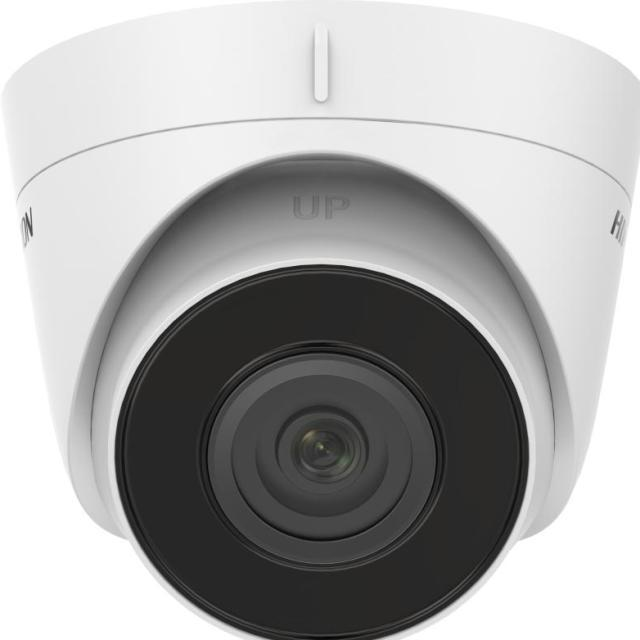hidden camera: (228, 351, 423, 549)
